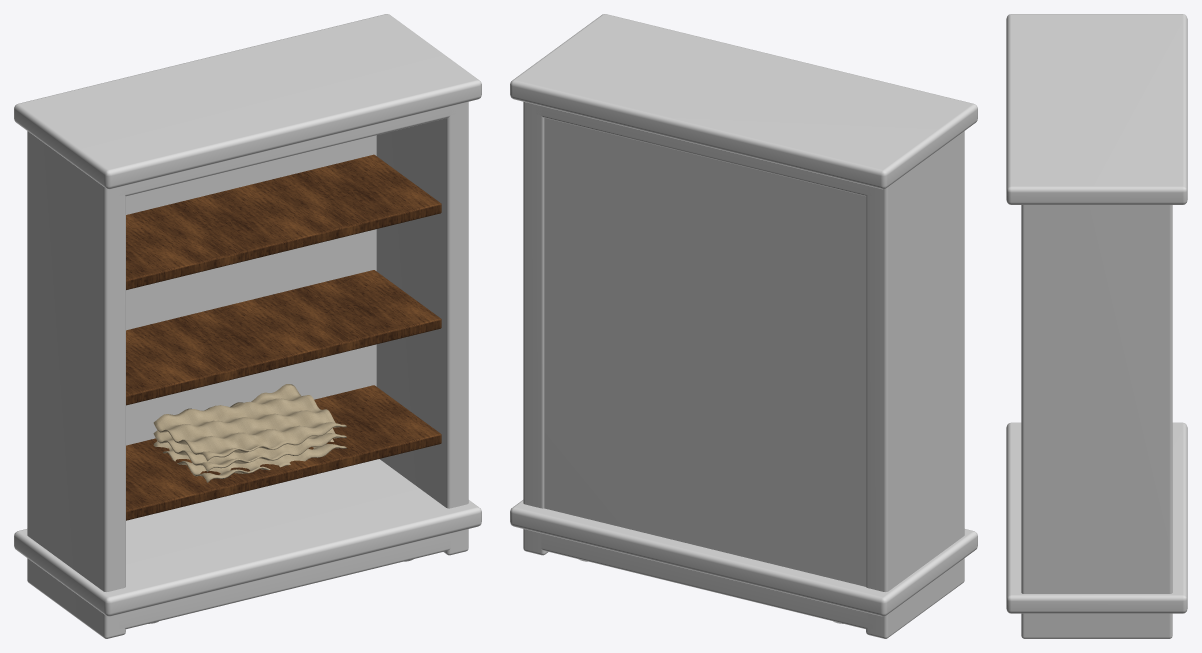
Rendered from WardrobeBody.fbx.
The picture shows the model from 3 angles, left to right: view 1: azimuth 30°, elevation 25°; view 2: azimuth 150°, elevation 25°; view 3: azimuth 270°, elevation 25°; orthographic projection. The views are drawn at different scales.
Visible parts, largest first — view 1: WardrobeBody_Walnut, WardrobeBody_SmokedOak, WardrobeBody_Linen; view 2: WardrobeBody_Walnut; view 3: WardrobeBody_Walnut.
Boxes of the visible parts, x1,y1,x2,y2 form: WardrobeBody_Walnut: (14, 14, 481, 638); WardrobeBody_SmokedOak: (126, 154, 441, 520); WardrobeBody_Linen: (153, 384, 346, 482); WardrobeBody_Walnut: (510, 14, 977, 638); WardrobeBody_Walnut: (1006, 14, 1187, 638).
Bounding box in the file's own units: 154 × 186 × 67.
